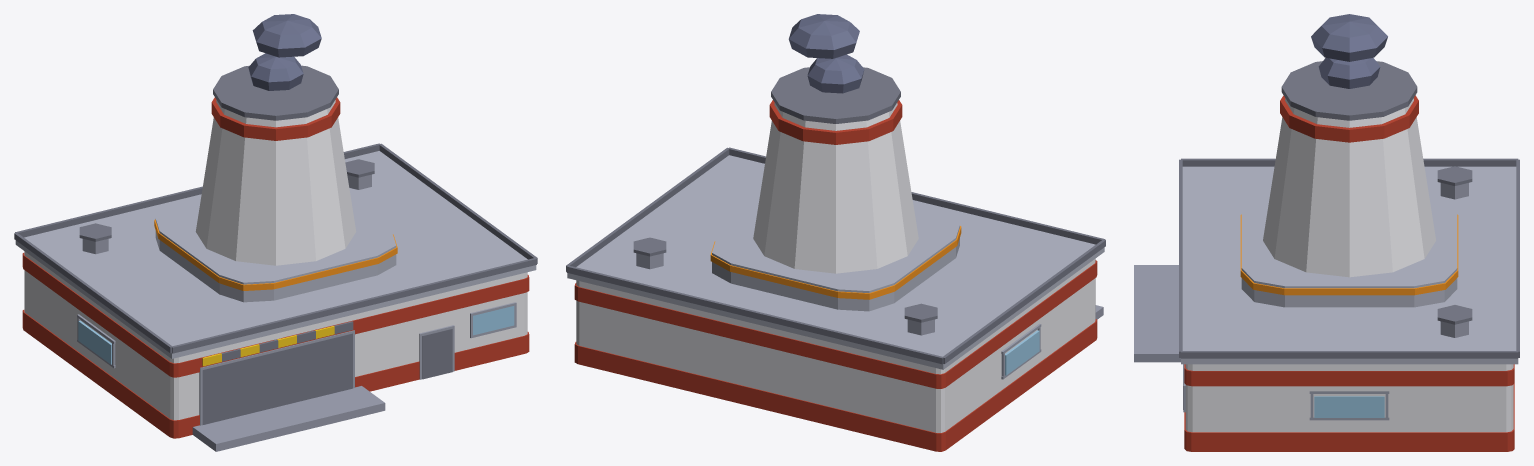
File: incinerator-2x2-t1.glb
The picture shows the model from 3 angles, left to right: view 1: azimuth 30°, elevation 25°; view 2: azimuth 150°, elevation 25°; view 3: azimuth 270°, elevation 25°; orthographic projection. The views are drawn at different scales.
Parts seen in each view (by area): view 1: incinerator-2x2-t1; view 2: incinerator-2x2-t1; view 3: incinerator-2x2-t1.
Part boxes in pixels (box(x1,y1,x2,y2)): incinerator-2x2-t1: box(14, 14, 537, 451); incinerator-2x2-t1: box(566, 14, 1105, 451); incinerator-2x2-t1: box(1134, 14, 1519, 451).
Bounding box in the file's own units: 1.96 × 1.61 × 1.65.
1 material, 1 textured.
